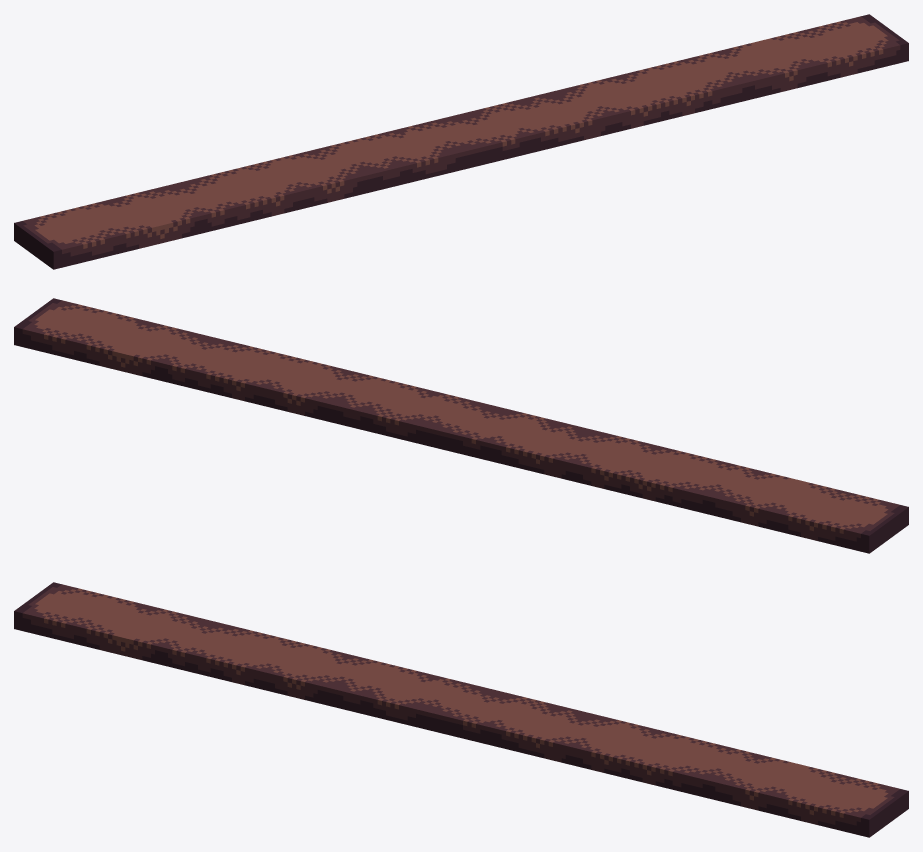
The model's file is BackgroundGround.obj.
3 views of the same model, one above another, from view 1: azimuth 30°, elevation 25°; view 2: azimuth 150°, elevation 25°; view 3: azimuth 330°, elevation 25° (orthographic).
Bounding box in the file's own units: 20 × 0.4 × 1.6.
Materials: 1 (1 with a texture image).
